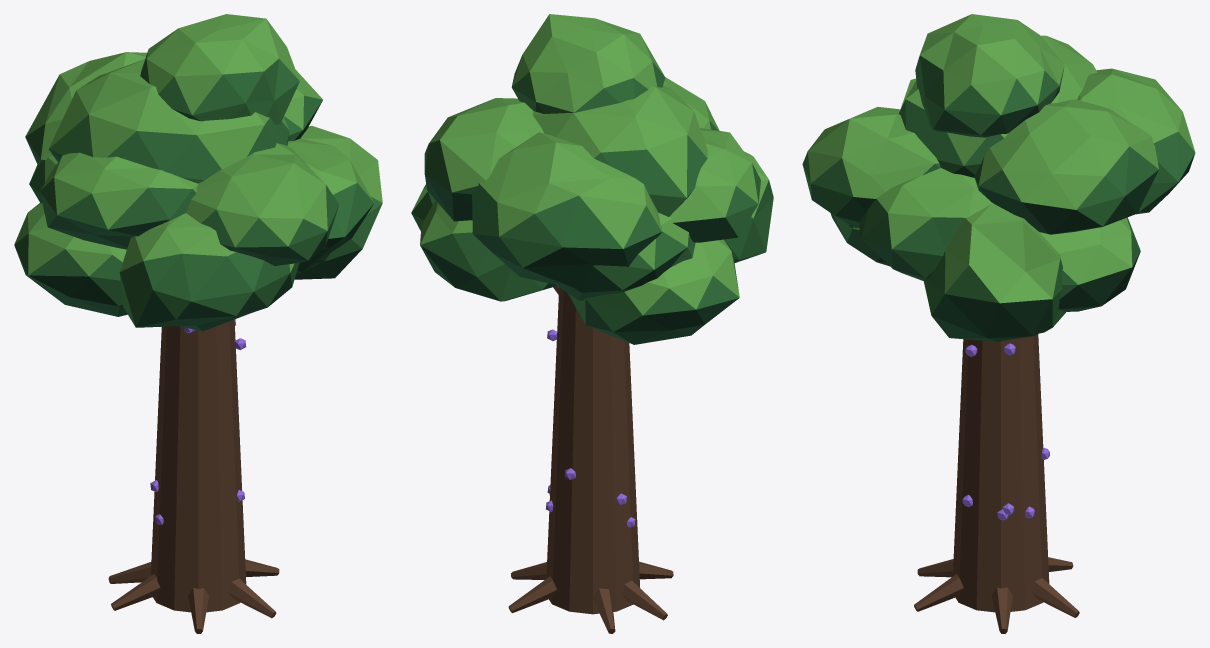
File: tree_giant.glb
3 views of the same model, side by side, from view 1: azimuth 30°, elevation 25°; view 2: azimuth 150°, elevation 25°; view 3: azimuth 270°, elevation 25° (orthographic). The views are drawn at different scales.
Parts seen in each view (by area): view 1: tree_giant; view 2: tree_giant; view 3: tree_giant.
Part boxes in pixels (x1,y1,x2,y2): tree_giant: (14,14,382,633); tree_giant: (411,14,773,633); tree_giant: (802,14,1195,633).
Bounding box in the file's own units: 28.67 × 47 × 28.99.
